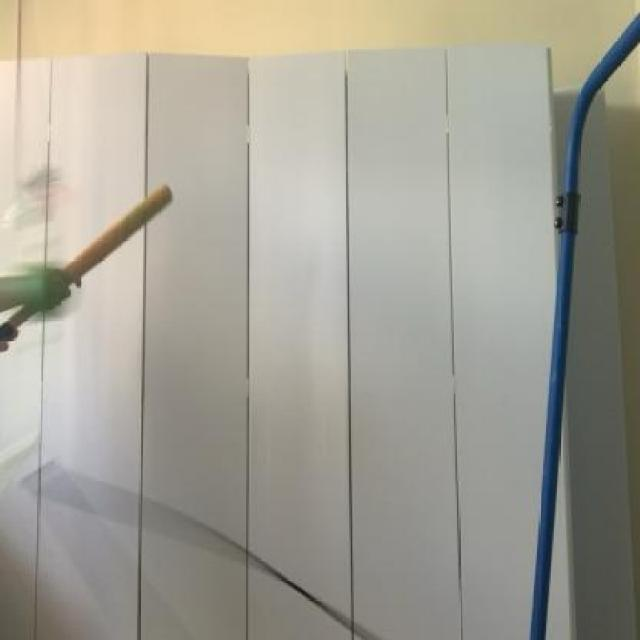baseball: (12, 257, 71, 334)
